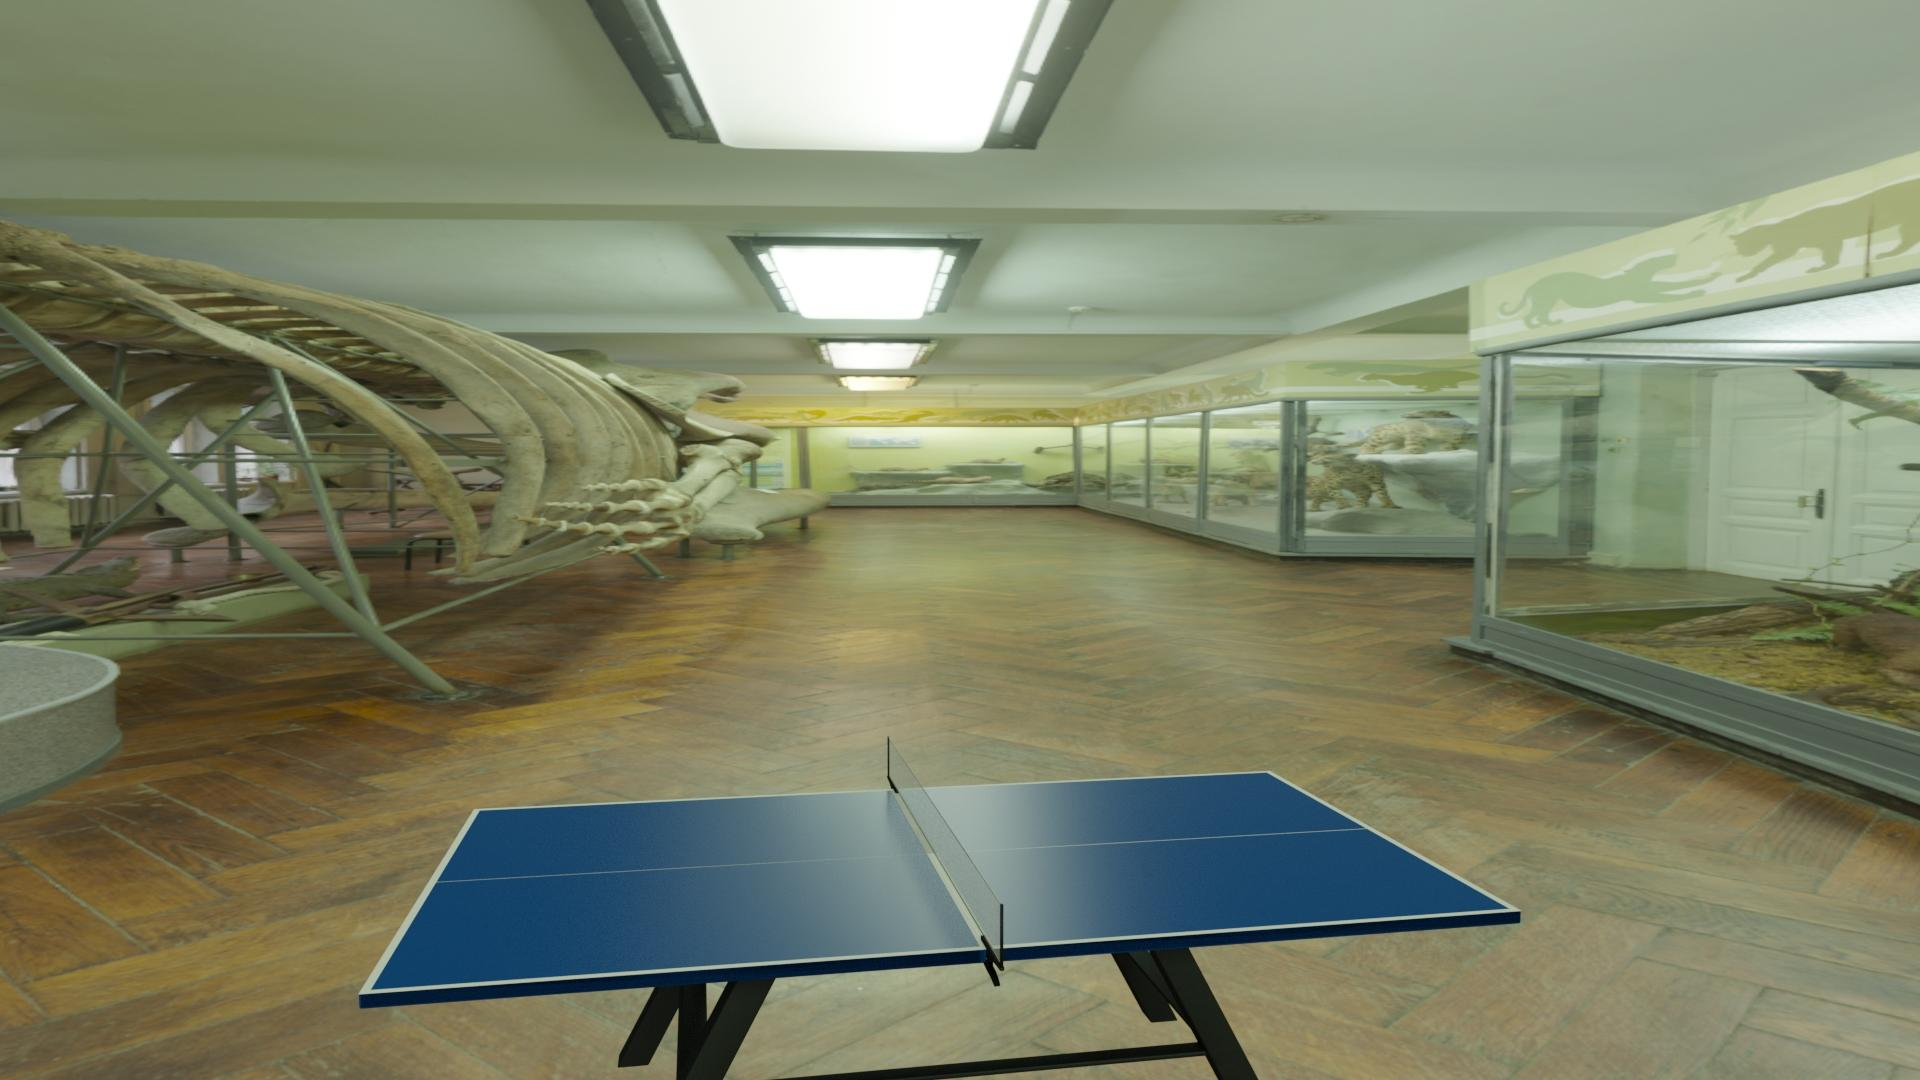table: (371, 773, 1510, 990)
